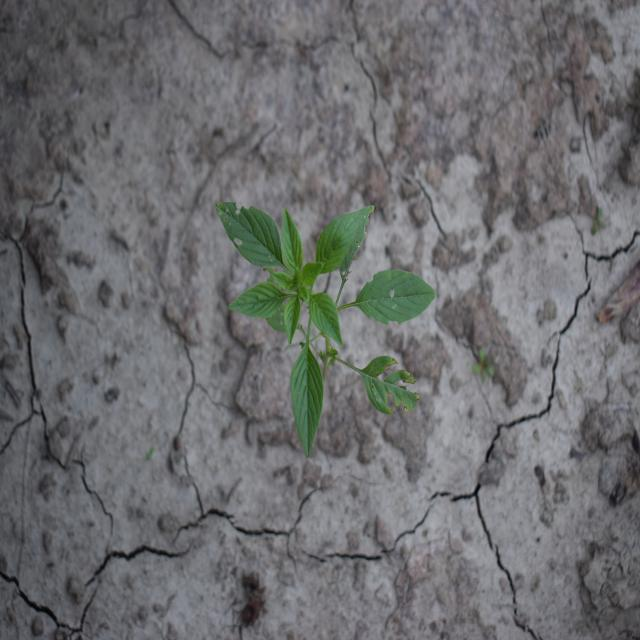PalmerAmaranth: (214, 200, 438, 460)
